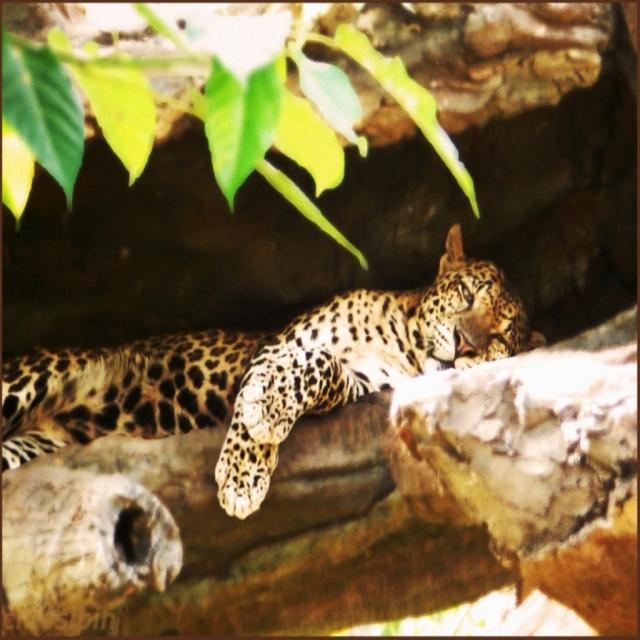Cheetah: (0, 219, 548, 525)
